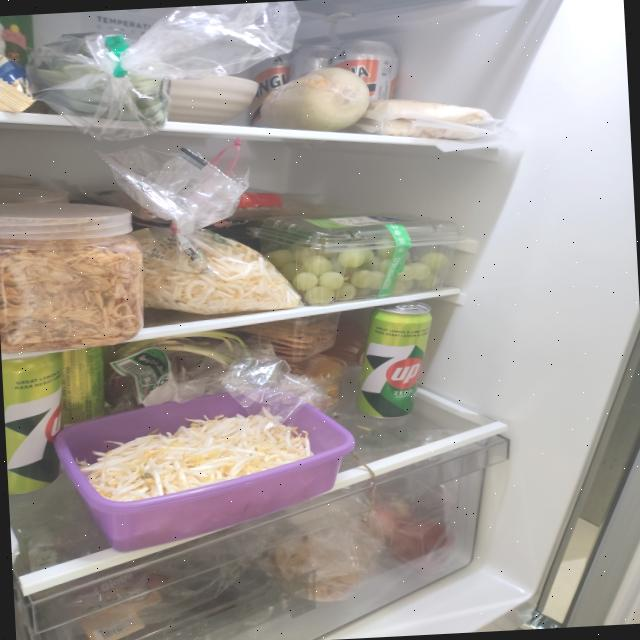bean_sprouts: (74, 404, 317, 504), (132, 220, 302, 318)
corn: (257, 65, 374, 136)
grape: (264, 228, 452, 310)
tempeh: (357, 92, 495, 146)
